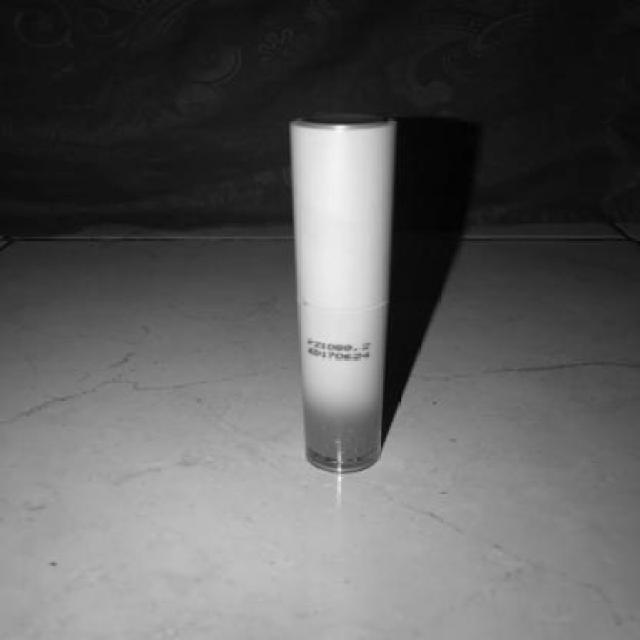lipstick: (220, 55, 498, 532)
